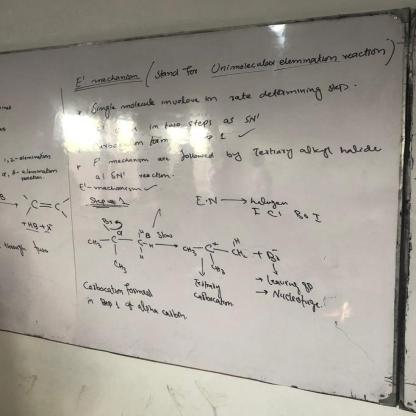Handwritten text: (83, 73, 357, 123), (149, 39, 392, 86), (101, 135, 386, 170)
